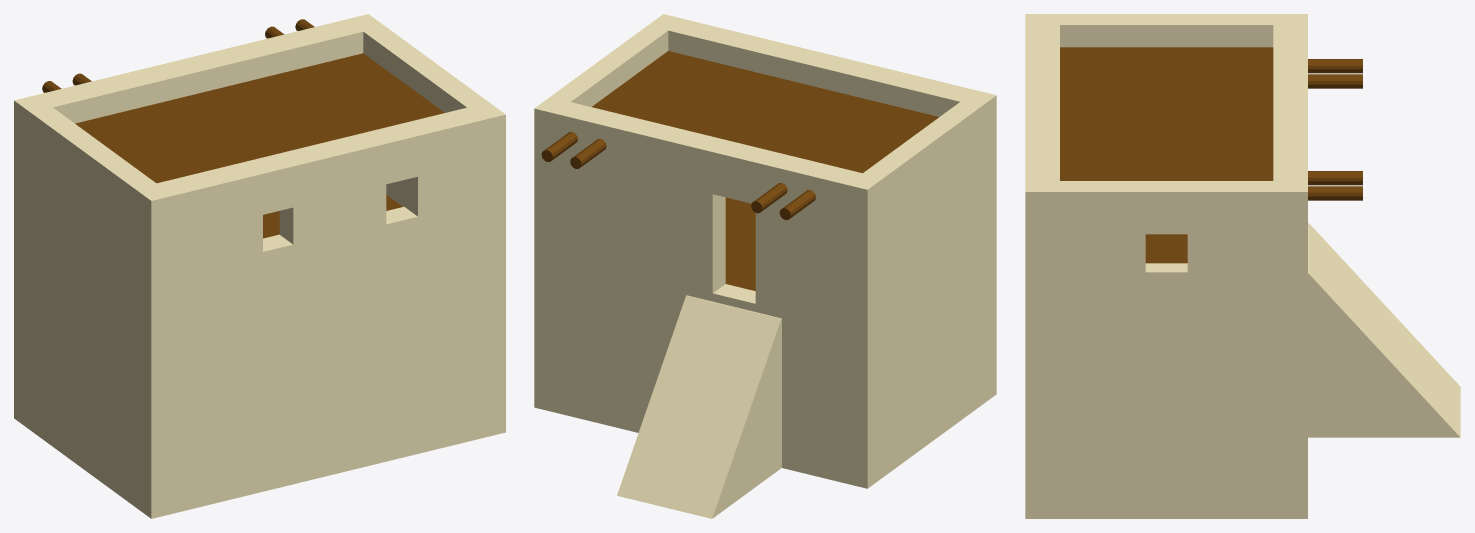
Rendered from shoe_box2.glb.
3 views of the same model, side by side, from view 1: azimuth 30°, elevation 25°; view 2: azimuth 150°, elevation 25°; view 3: azimuth 270°, elevation 25° (orthographic). The views are drawn at different scales.
Visible parts, largest first — view 1: shoe_box; view 2: shoe_box; view 3: shoe_box.
Part boxes in pixels (x1,y1,x2,y2): shoe_box: (14,14,505,518); shoe_box: (534,14,996,518); shoe_box: (1025,14,1460,518).
Bounding box in the file's own units: 7 × 6 × 7.24.
